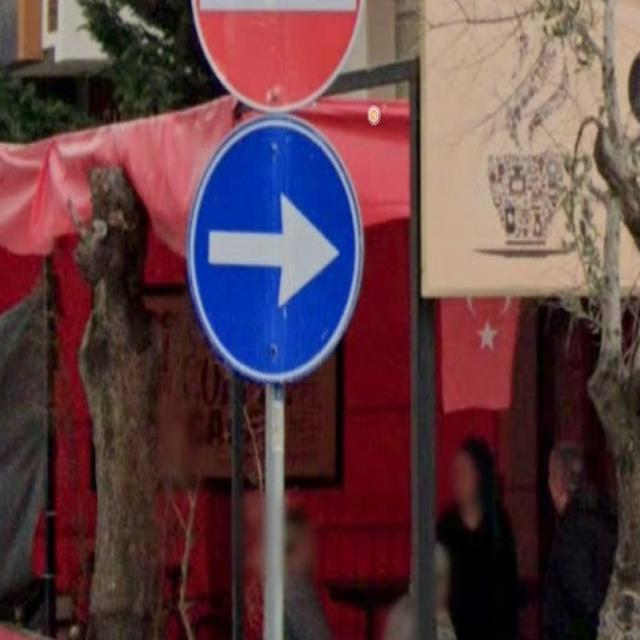Turn Right: (184, 112, 358, 392)
